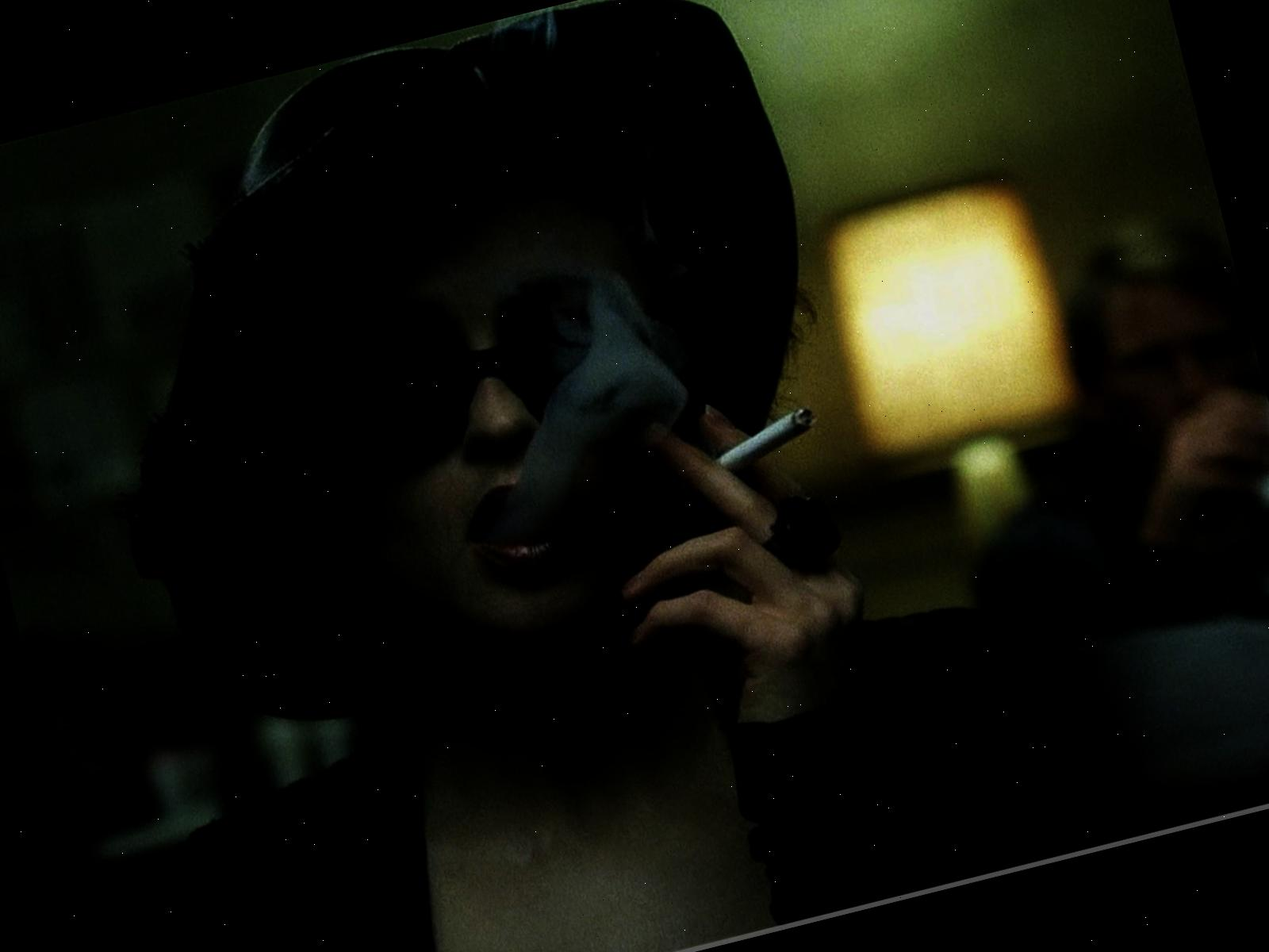smoke: (435, 290, 706, 550)
